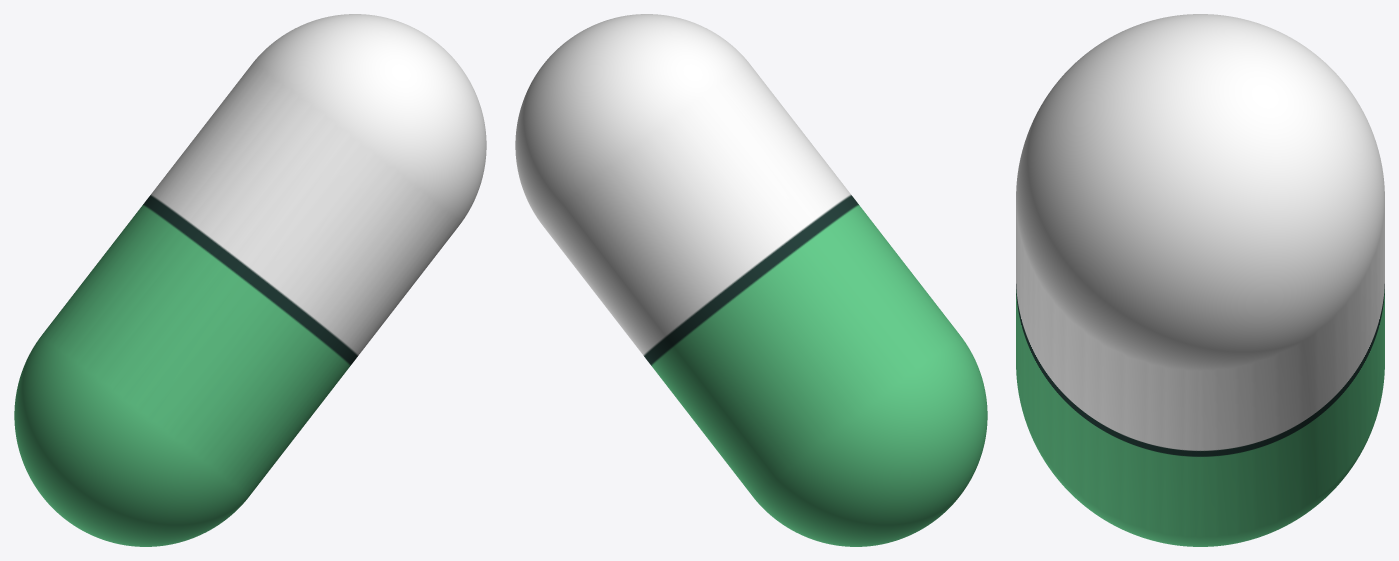
The model's file is pill_full.glb.
3 renders of one model, left to right at view 1: azimuth 30°, elevation 25°; view 2: azimuth 150°, elevation 25°; view 3: azimuth 270°, elevation 25°, orthographic. The views are drawn at different scales.
Parts seen in each view (by area): view 1: Icosphere; view 2: Icosphere; view 3: Icosphere.
Boxes of the visible parts, bbox=[...] form: Icosphere: bbox=[14, 14, 486, 546]; Icosphere: bbox=[515, 14, 987, 546]; Icosphere: bbox=[1016, 14, 1384, 546].
Size of the model in its own units: 1.92 by 1.92 by 1.
Materials: 1 (1 with a texture image).
